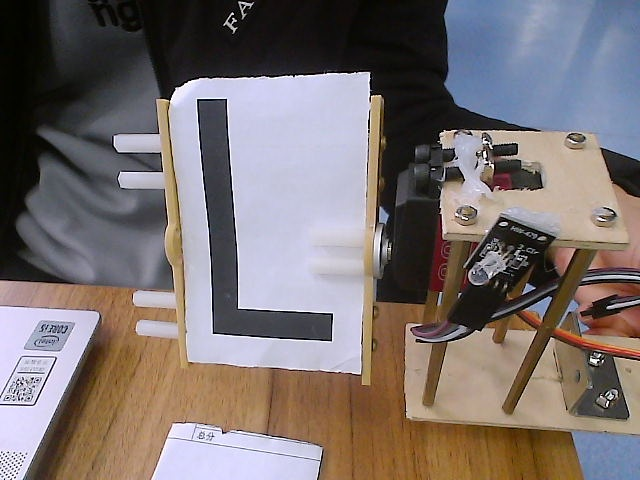L: (106, 38, 451, 396)
